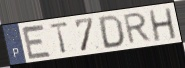7: (74, 17, 96, 54)
D: (98, 14, 125, 50)
E: (20, 24, 54, 61)
H: (148, 6, 179, 43)
R: (122, 11, 153, 46)
T: (48, 20, 70, 55)
